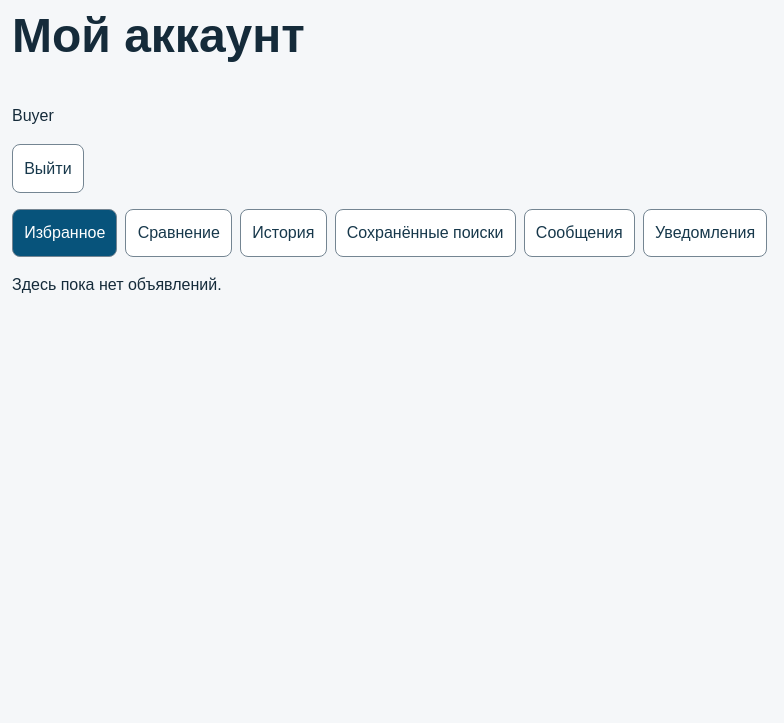
Late favorites response cannot replace selected comparison cards or pagination
Check: the text "Buyer" is shown, box x1=12 y1=107 x2=54 y2=124
Click the button "Сравнение": (179, 233) x1=126 y1=209 x2=232 y2=257
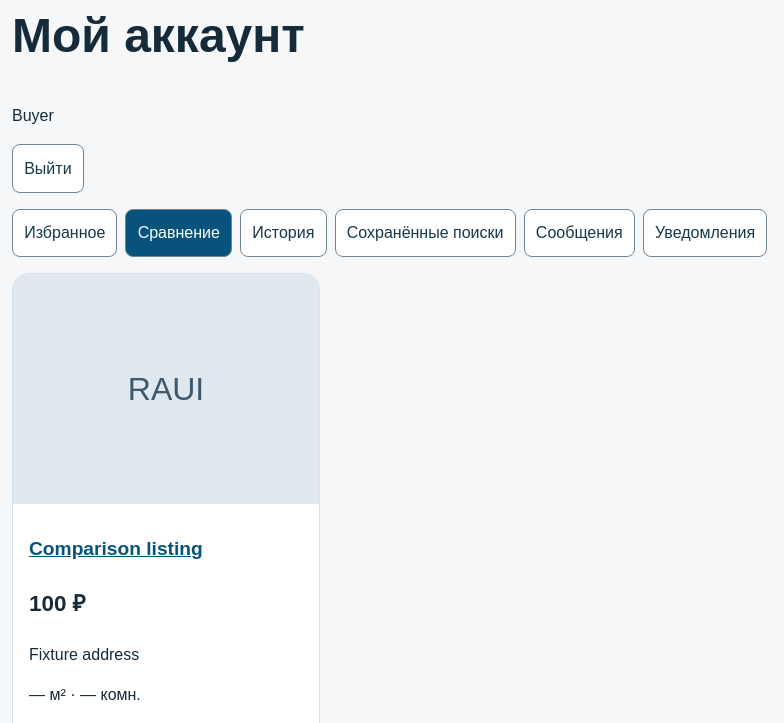
Check: the link "Comparison listing" is shown, box x1=29 y1=538 x2=203 y2=560
